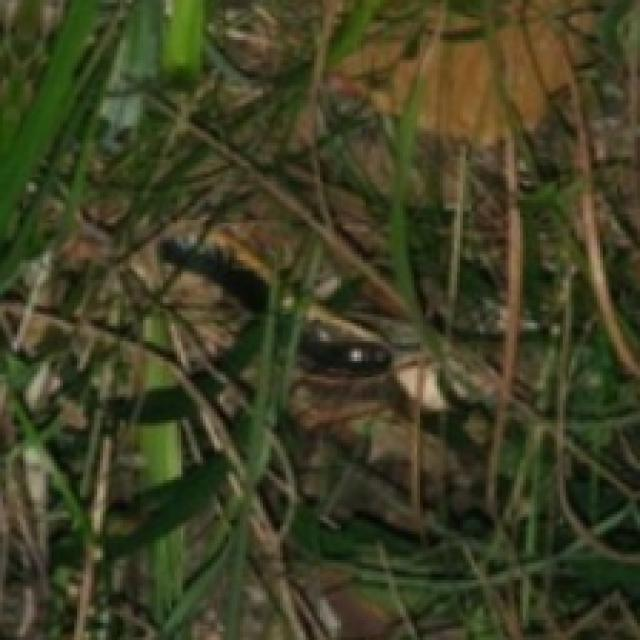king cobra: (300, 249, 503, 409), (163, 231, 277, 331), (274, 283, 391, 374), (163, 229, 271, 311)
